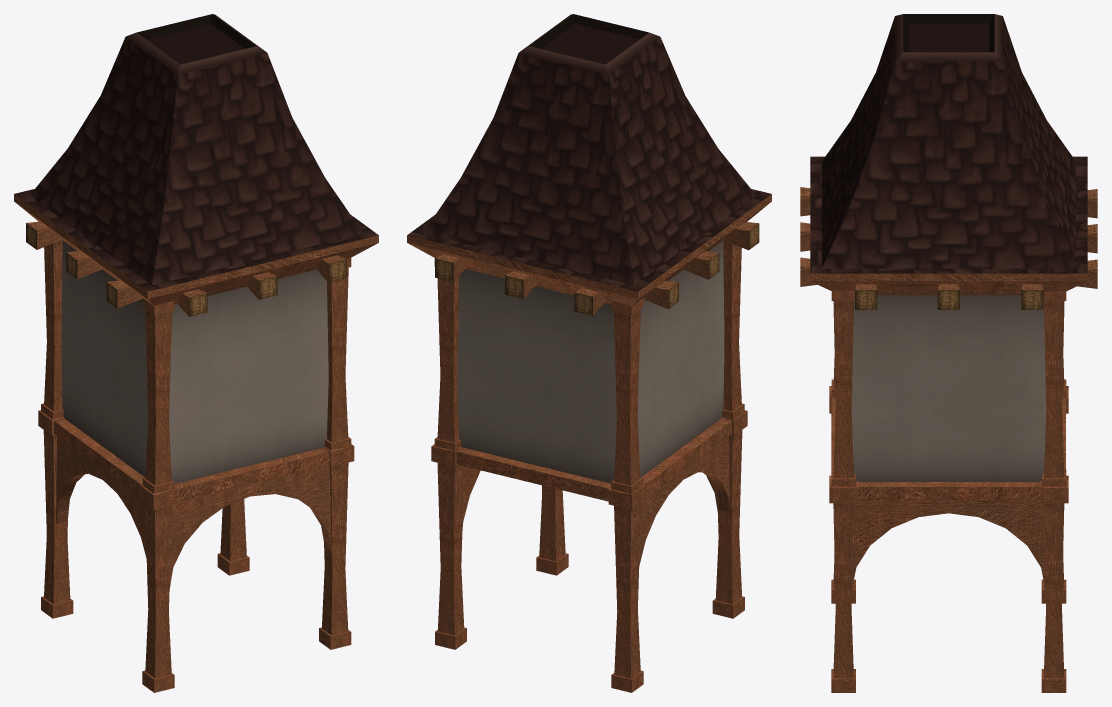
Rendered from fanasty_mod_conjoining_piece_D.fbx.
3 views of the same model, side by side, from view 1: azimuth 30°, elevation 25°; view 2: azimuth 150°, elevation 25°; view 3: azimuth 270°, elevation 25° (orthographic). The views are drawn at different scales.
Parts seen in each view (by area): view 1: conjoining_piece_D; view 2: conjoining_piece_D; view 3: conjoining_piece_D.
Part boxes in pixels (x1,y1,x2,y2): conjoining_piece_D: (14,14,378,692); conjoining_piece_D: (407,14,771,692); conjoining_piece_D: (800,14,1097,692).
Bounding box in the file's own units: 4.58 × 10.33 × 4.56.
